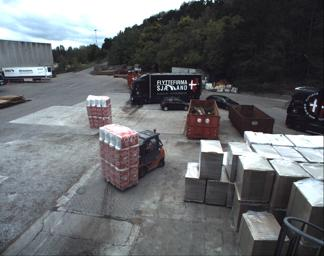rockwool_batts: (97, 122, 137, 190), (84, 92, 112, 126)
